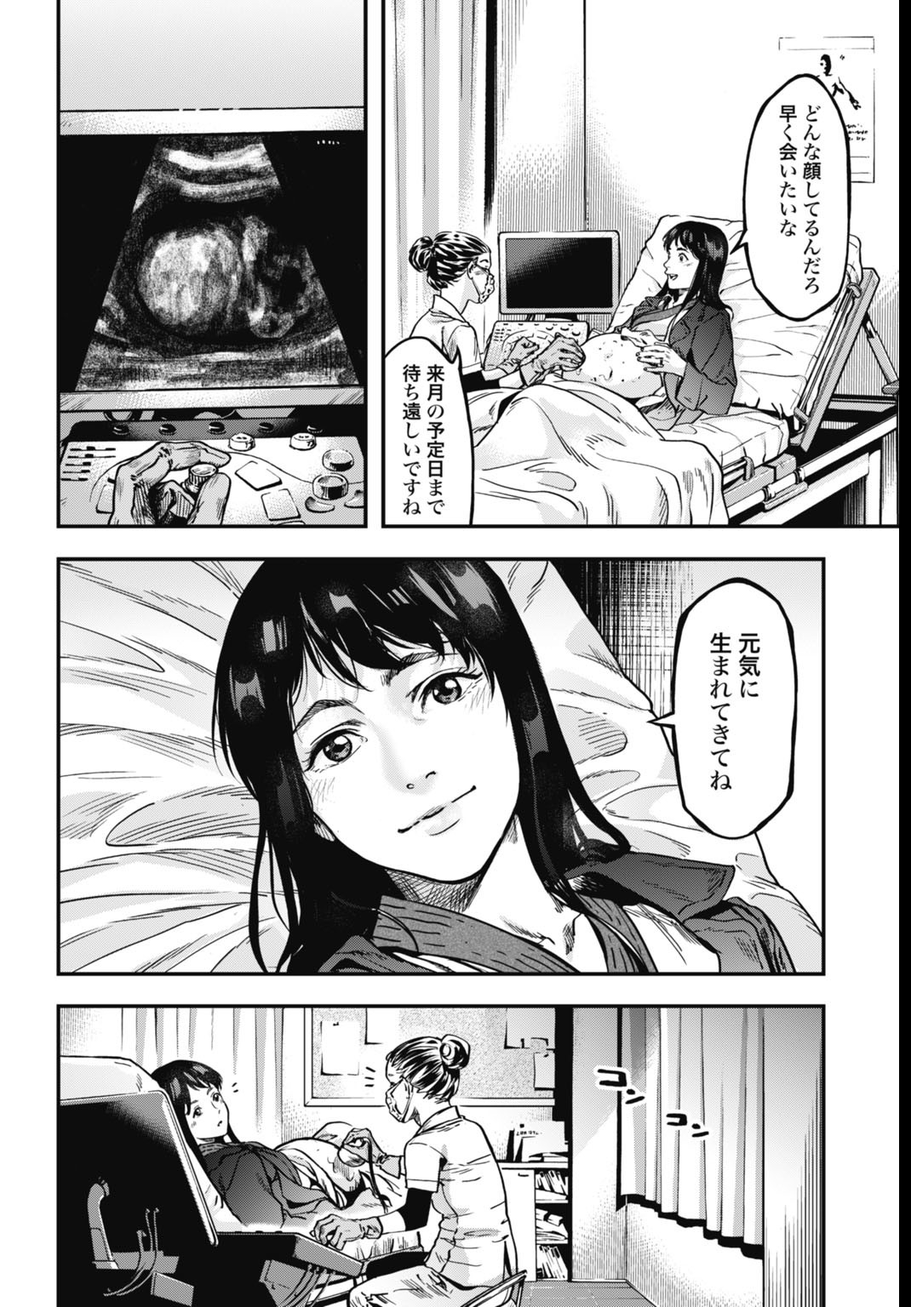bubbles: (644, 574, 804, 844), (727, 66, 856, 330), (385, 331, 480, 530)
